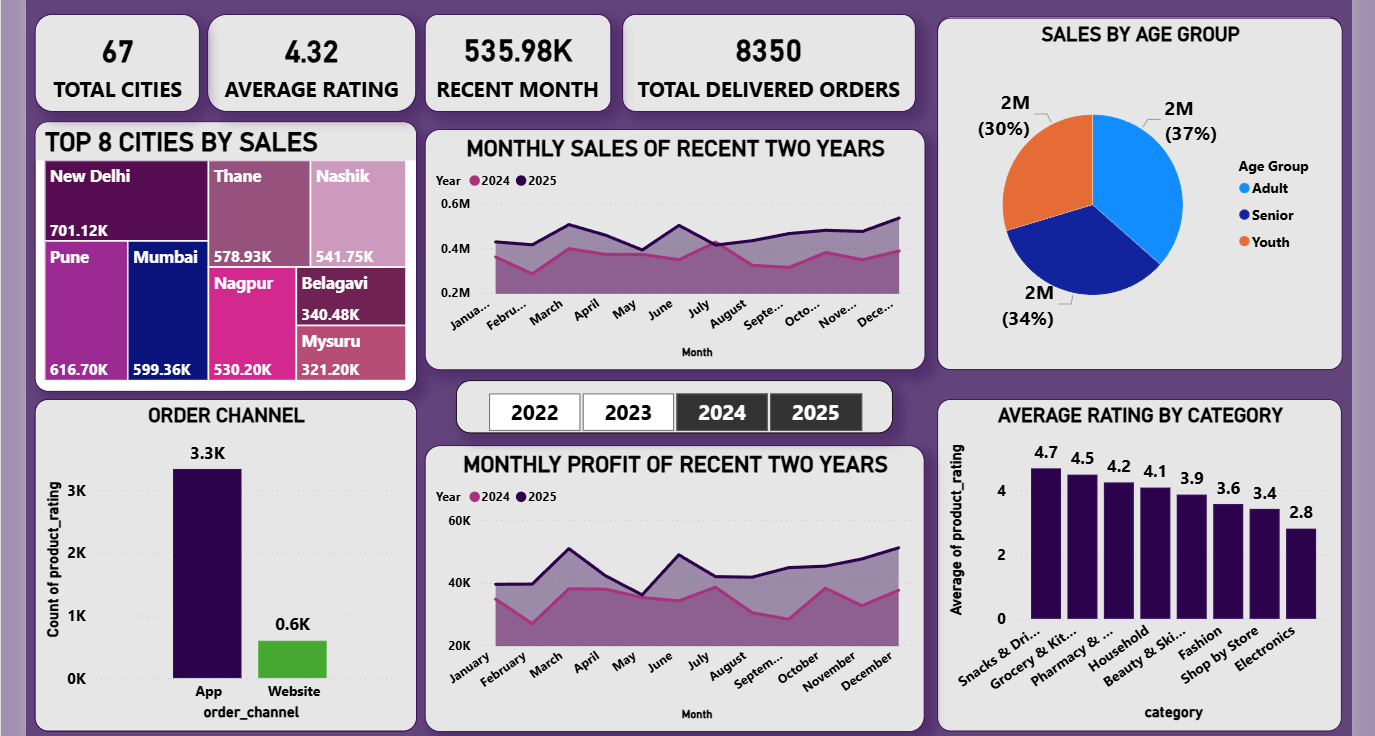

The page's visual inventory and layout, read from the dashboard file:
{"tool":"powerbi","page":{"name":"Duplicate of Page 1","canvas":[1280,720],"ordinal":1},"visuals":[{"type":"treemap","title":" TOP 8 CITIES BY SALES ","fields":{"Group":["Sheet1.city"],"Values":["Sum(Sheet1.SALES)"]},"box":[8.8,122.9,368.7,260.4],"z":0},{"type":"lineStackedColumnComboChart","title":"SALES AND PROFIT TREND BY SUB CATEGORY","fields":{"Category":["Sheet1.subcategory"],"Y":["Sum(Sheet1.SALES)"],"Y2":["Sum(Sheet1.calculated_profit)"]},"box":[879.4,21.9,390.7,340.9],"z":1000},{"type":"card","title":"SALES BY STATES","fields":{"Values":["Sheet1.TOTAL DELIVERED ORDERS"]},"box":[575.5,19.3,283.5,94.1],"z":2000},{"type":"card","title":"SALES BY STATES","fields":{"Values":["Sheet1.AVERAGE RATING"]},"box":[174.9,19.3,201.5,94.1],"z":3000},{"type":"card","title":"SALES BY STATES","fields":{"Values":["Sheet1.TOTAL CITIES"]},"box":[8.4,19.3,159.3,94.1],"z":4000},{"type":"columnChart","title":"AVERAGE RATING BY CATEGORY","fields":{"Y":["Avg(Sheet1.product_rating)"],"Category":["Sheet1.category"]},"box":[879.4,390.7,390.7,320.4],"z":5000},{"type":"areaChart","title":"MONTHLY SALES OF RECENT TWO YEARS ","fields":{"Category":["Sheet1.Order Date.Variation.Date Hierarchy.Month"],"Y":["Sum(Sheet1.SALES)"],"Series":["Sheet1.Order Date.Variation.Date Hierarchy.Year"]},"box":[384.8,130.2,482.9,232.6],"z":6000},{"type":"areaChart","title":"MONTHLY PROFIT OF RECENT  TWO YEARS ","fields":{"Category":["Sheet1.Order Date.Variation.Date Hierarchy.Month"],"Series":["Sheet1.Order Date.Variation.Date Hierarchy.Year"],"Y":["Sum(Sheet1.calculated_profit)"]},"box":[385.3,435.3,482.4,276.5],"z":7000},{"type":"card","title":"SALES BY STATES","fields":{"Values":["Sheet1.RECENT MONTH"]},"box":[384.9,19.3,179.8,94.1],"z":8000},{"type":"pieChart","title":"SALES  BY AGE GROUP","fields":{"Category":["Sheet1.Age Group"],"Y":["Sum(Sheet1.SALES)"]},"box":[8.8,390.7,368.7,320.4],"z":9000},{"type":"columnChart","title":"ORDER CHANNEL","fields":{"Y":["CountNonNull(Sheet1.product_rating)"],"Category":["Sheet1.order_channel"]},"box":[8.8,391.2,369.1,320.6],"z":10000},{"type":"slicer","fields":{"Values":["Sheet1.Order Date.Variation.Date Hierarchy.Year"]},"box":[415.5,373.1,421.4,51.2],"z":11000},{"type":"pieChart","title":"SALES  BY AGE GROUP","fields":{"Category":["Sheet1.Age Group"],"Y":["Sum(Sheet1.SALES)"]},"box":[879.5,22.9,390.9,340.2],"z":12000}]}

Visuals, with their boxes in screenshot pixels (x1, y1, x2, y2):
" TOP 8 CITIES BY SALES " treemap: 24,118,410,391
"SALES AND PROFIT TREND BY SUB CATEGORY" lineStackedColumnComboChart: 935,12,1345,369
"SALES BY STATES" card: 617,9,914,108
"SALES BY STATES" card: 198,9,409,108
"SALES BY STATES" card: 23,9,190,108
"AVERAGE RATING BY CATEGORY" columnChart: 935,399,1345,734
"MONTHLY SALES OF RECENT TWO YEARS " areaChart: 417,126,923,369
"MONTHLY PROFIT OF RECENT  TWO YEARS " areaChart: 418,445,923,735
"SALES BY STATES" card: 417,9,606,108
"SALES  BY AGE GROUP" pieChart: 24,399,410,734
"ORDER CHANNEL" columnChart: 24,399,410,735
slicer - Sheet1.Order Date.Variation.Date Hierarchy.Year: 450,380,891,434
"SALES  BY AGE GROUP" pieChart: 936,13,1345,370
